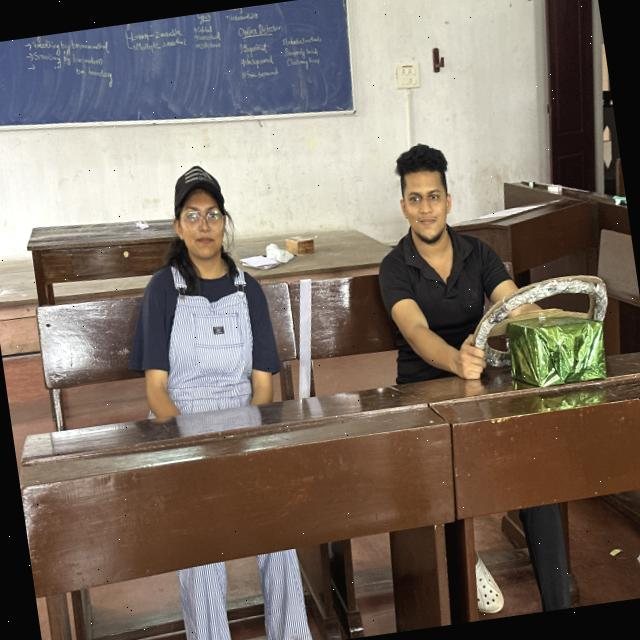no-seatbelt: (112, 241, 306, 427), (368, 210, 538, 384)
